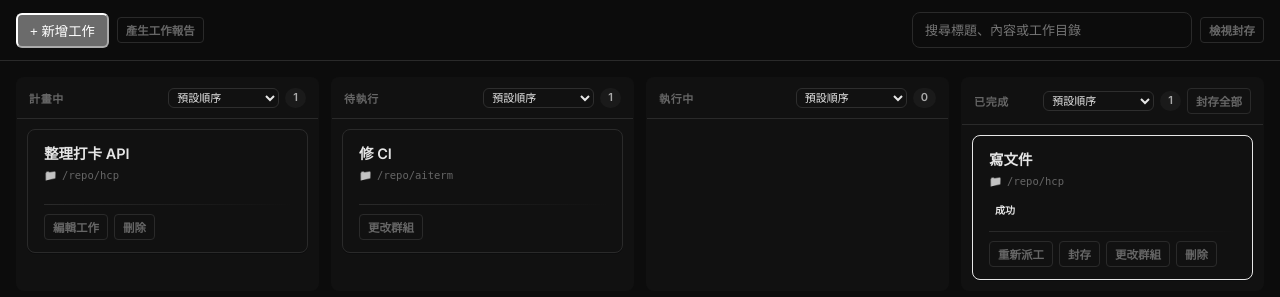
it: ProjectBoard › 看板搜尋 › 清掉關鍵字之後卡片全部回來
In the field with test id "board-search": (1052, 30) [912, 12, 1192, 48], type "打卡"
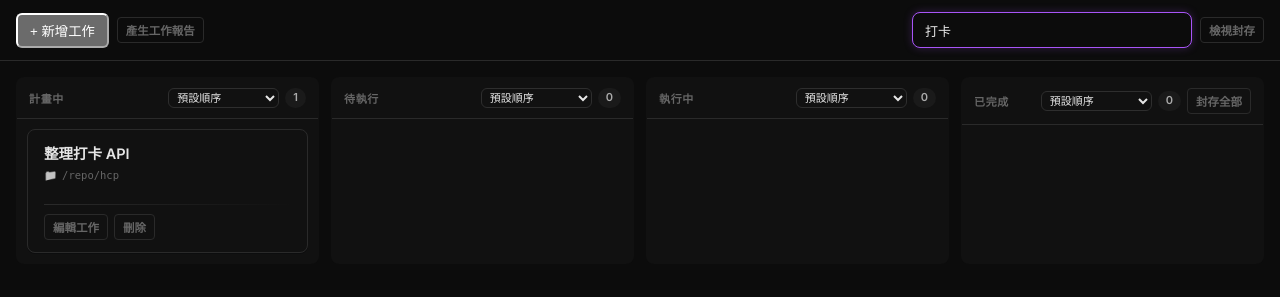
Now the text "修 CI" is gone
Clear the field with test id "board-search": (1052, 30) [912, 12, 1192, 48]
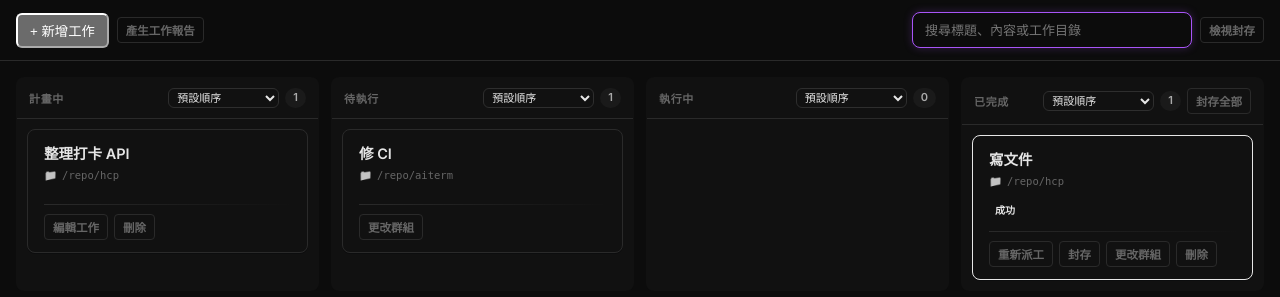
Now the text "修 CI" is shown, box [359, 145, 392, 162]
